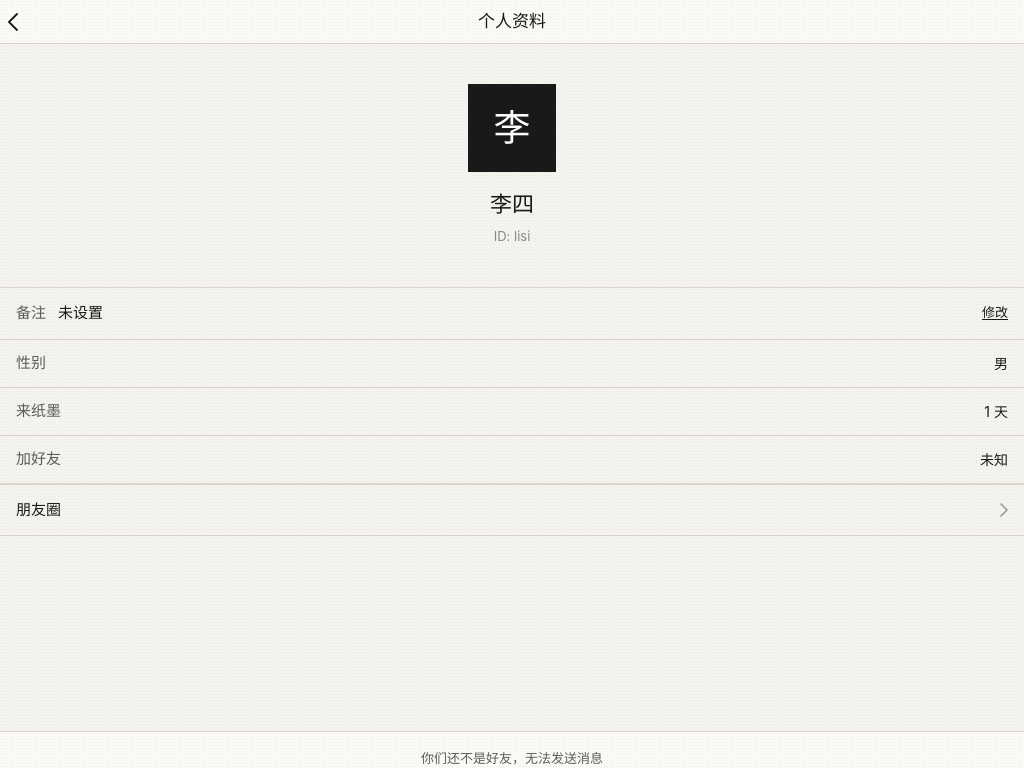
Test case: FriendProfile 好友资料页 › 备注保存后更新页面称呼并展示原昵称
Expected: the heading with test id "friend-nickname" reads "李四", [490, 191, 534, 217]
Click the button with test id "friend-remark-edit" at (995, 313), box [982, 303, 1008, 323]
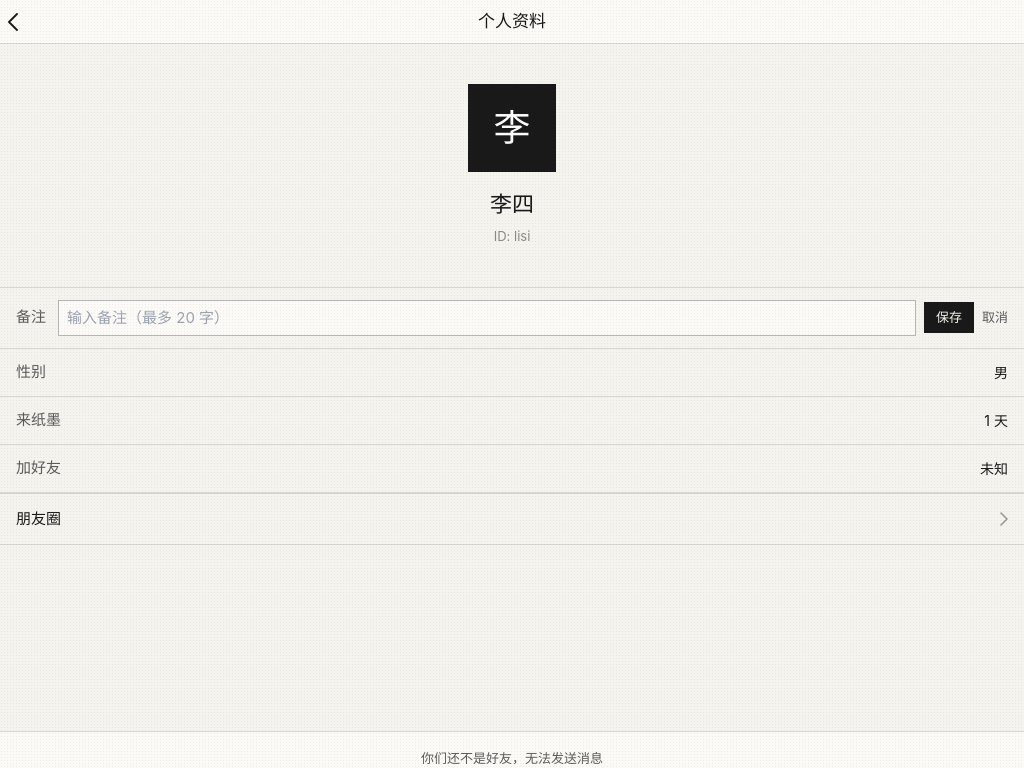
Type "老李" into the field with test id "friend-remark-input" at (487, 318), box [58, 300, 916, 336]
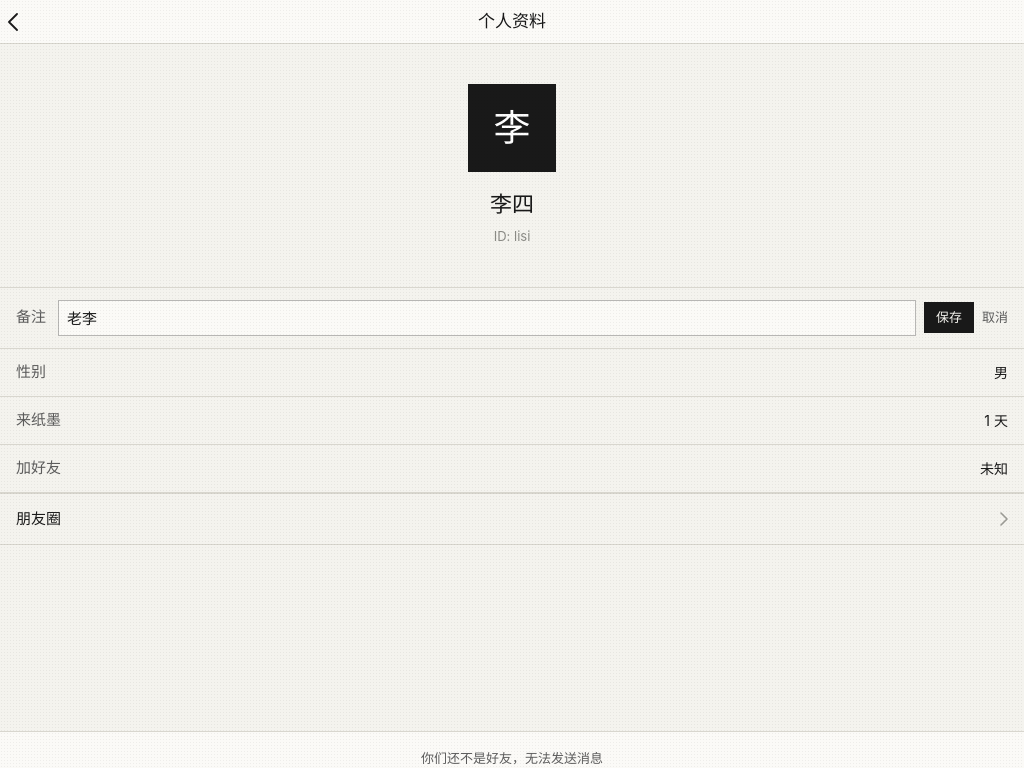
Click the button with test id "friend-remark-save" at (949, 318), box [924, 302, 974, 333]
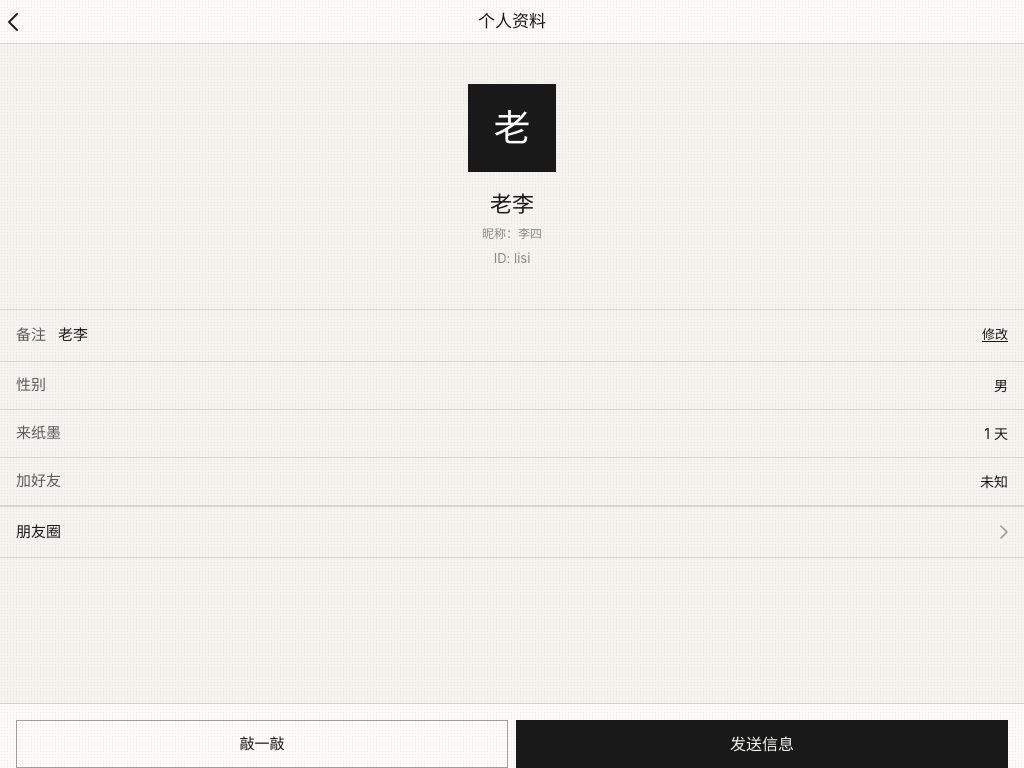
Expected: the heading with test id "friend-nickname" reads "老李", [490, 191, 534, 217]
Expected: the text with test id "friend-original-nickname" shows "李四", [518, 226, 542, 241]
